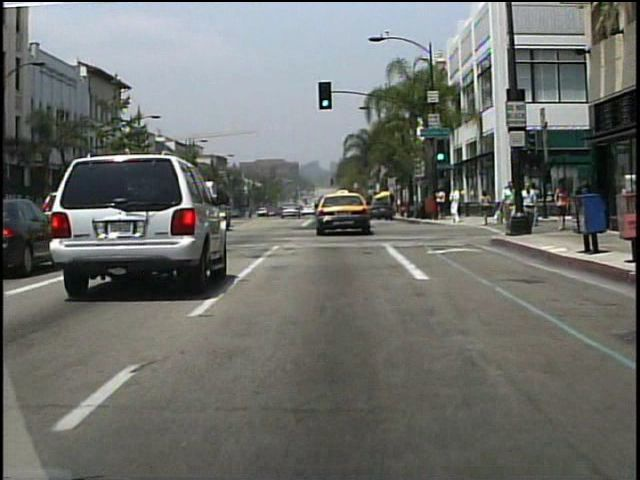person: (493, 183, 514, 235), (498, 180, 514, 238), (552, 181, 569, 232), (521, 183, 539, 222), (530, 182, 542, 228), (480, 190, 493, 229), (511, 190, 524, 227), (451, 187, 462, 224), (434, 185, 445, 220)
